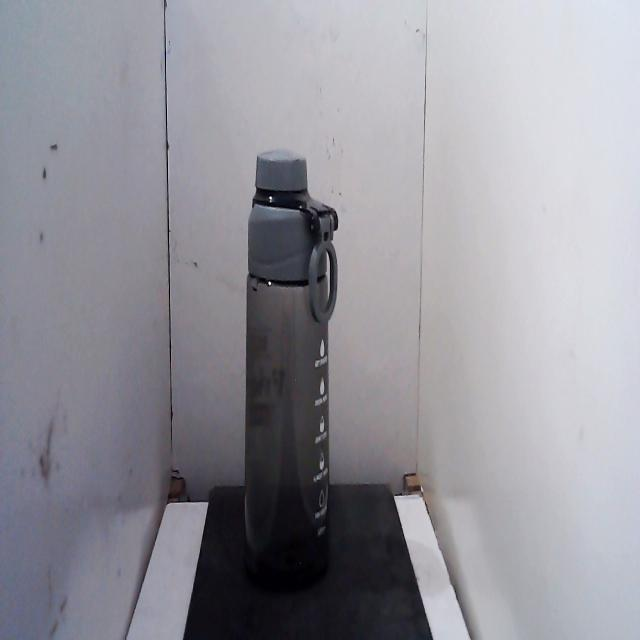plastico: (235, 139, 344, 605)
